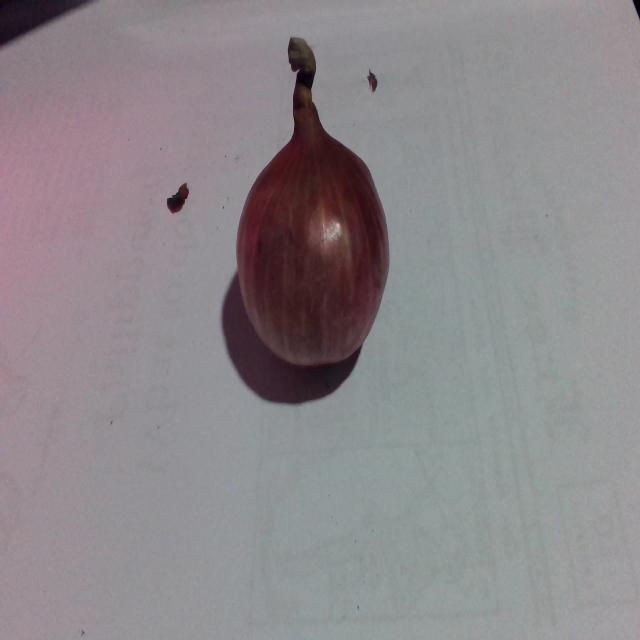onion: (229, 29, 391, 387)
